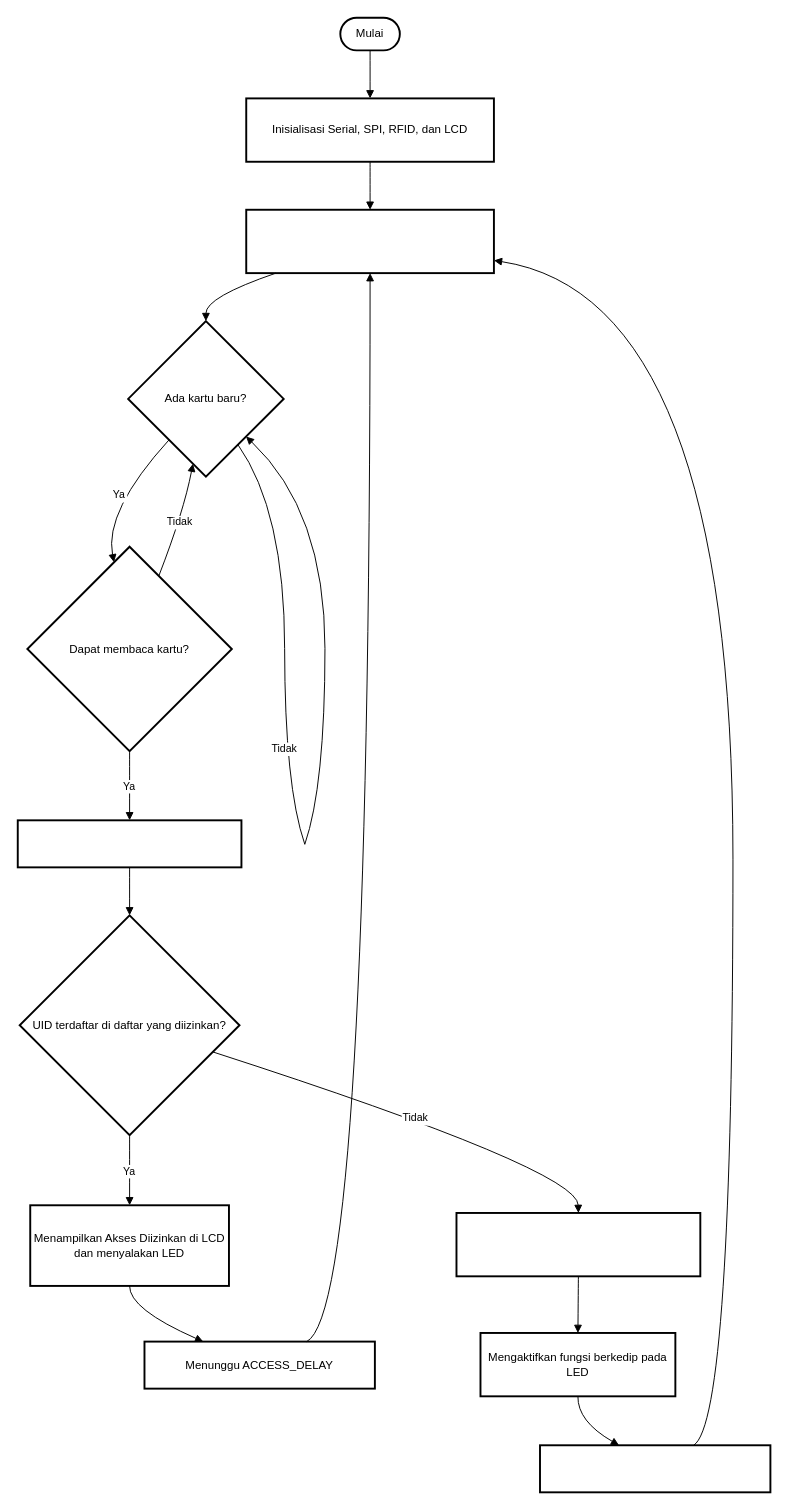
This 787x1509 diagram has some shape labels left out. The centre of each missing label's shape, as x and y in pixels:
"Membaca UID dari kartu" goes at point 129,843.
"Menampilkan Akses Ditolak di LCD" goes at point 578,1244.
"Menampilkan Siapkan Kartu di LCD" goes at point 369,241.
"Menunggu DENIED_DELAY" goes at point 655,1468.
